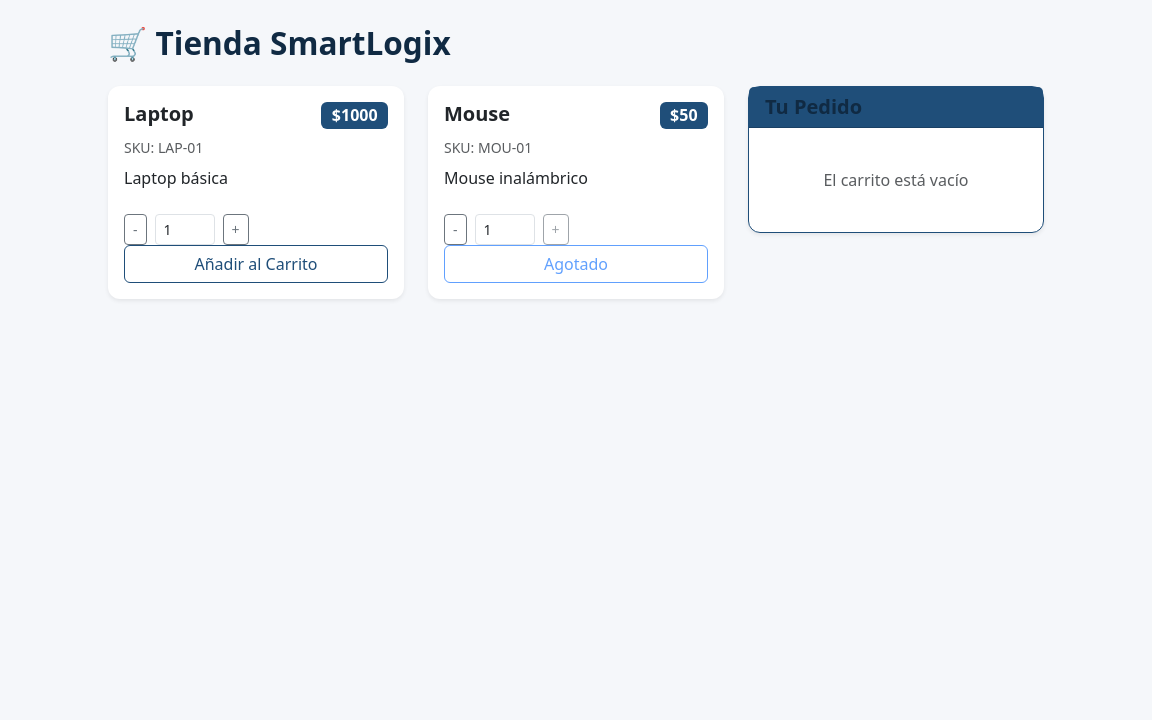
Test case: Catalogo › muestra las cotizaciones de transportistas al agregar al carrito
Expected: the heading "Laptop" is shown, [124, 102, 194, 126]
Click the button "Añadir al Carrito" at (256, 264), box [124, 245, 388, 283]
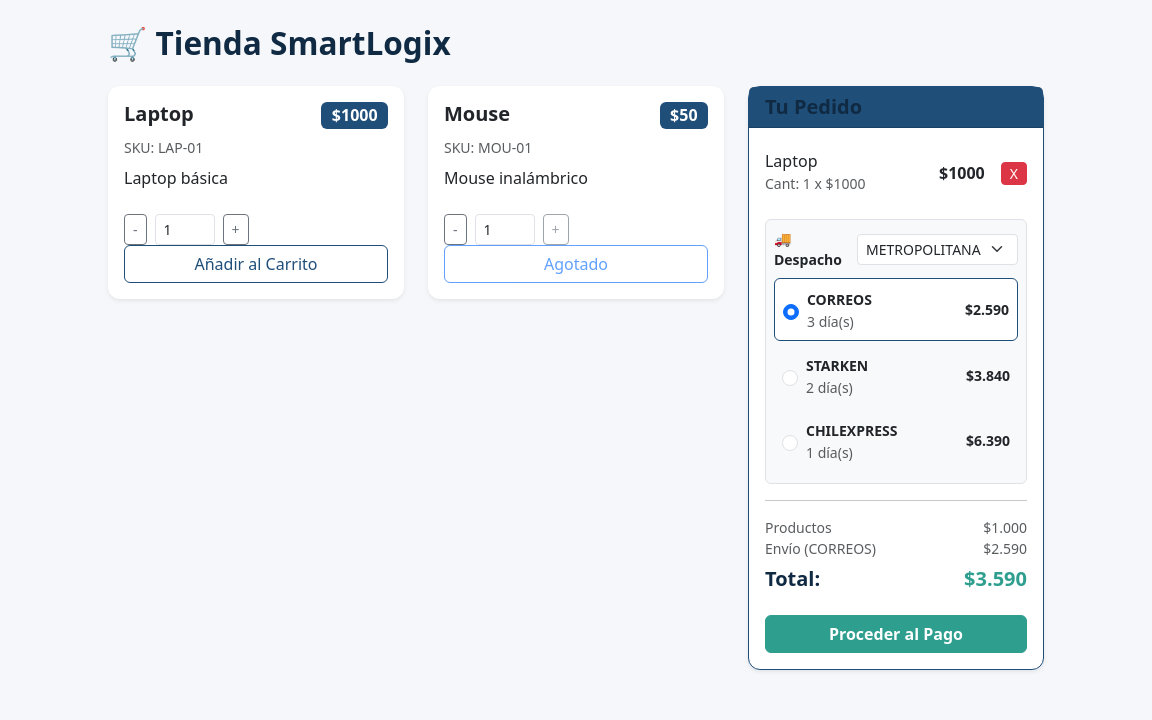
Now the text "CORREOS" is shown, box [807, 290, 872, 309]
Now the text "STARKEN" is shown, box [806, 356, 868, 375]
Now the text "CHILEXPRESS" is shown, box [806, 421, 898, 440]
